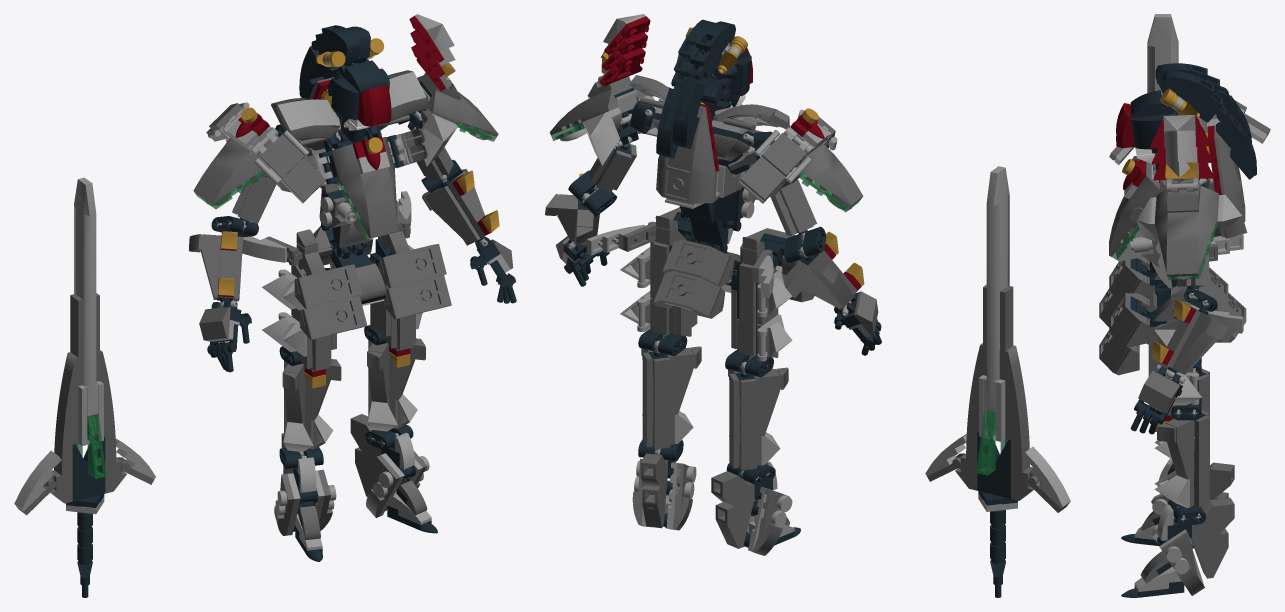
Rendered from tetsuhime.dae.
3 views of the same model, side by side, from view 1: azimuth 30°, elevation 25°; view 2: azimuth 150°, elevation 25°; view 3: azimuth 270°, elevation 25° (orthographic). The views are drawn at different scales.
Bounding box in the file's own units: 725 × 218 × 696.
